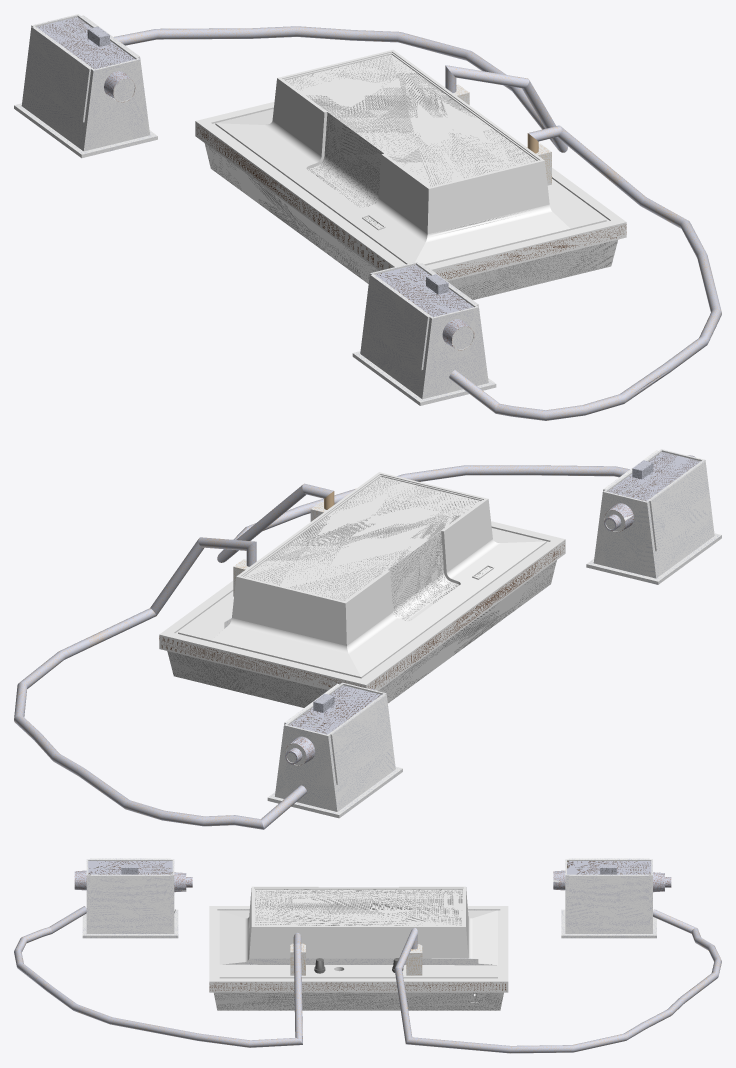
Rendered from Magnavox.fbx.
3 views of the same model, one above another, from view 1: azimuth 30°, elevation 25°; view 2: azimuth 150°, elevation 25°; view 3: azimuth 270°, elevation 25° (orthographic). The views are drawn at different scales.
Parts seen in each view (by area): view 1: SketchUp.003, SketchUp.060, SketchUp.074, SketchUp.096, SketchUp.007, SketchUp.116, SketchUp.072, SketchUp.021, SketchUp.027, SketchUp.012, SketchUp.094, SketchUp.106 (+3 smaller); view 2: SketchUp.003, SketchUp.060, SketchUp.096, SketchUp.074, SketchUp.072, SketchUp.007, SketchUp.021, SketchUp.027, SketchUp.116, SketchUp.012, SketchUp.094, SketchUp.106 (+3 smaller); view 3: SketchUp.003, SketchUp.060, SketchUp.096, SketchUp.074, SketchUp.007, SketchUp.072, SketchUp.116, SketchUp.021, SketchUp.027, SketchUp.040, SketchUp.106, SketchUp.094 (+5 smaller).
Part boxes in pixels (x1,y1,x2,y2): SketchUp.003: (215, 49, 606, 265); SketchUp.060: (285, 54, 536, 186); SketchUp.074: (21, 14, 149, 151); SketchUp.096: (360, 262, 488, 399); SketchUp.007: (204, 143, 617, 299); SketchUp.116: (449, 125, 721, 420); SketchUp.072: (114, 26, 567, 152); SketchUp.021: (195, 101, 626, 270); SketchUp.027: (195, 122, 626, 279); SketchUp.012: (311, 112, 383, 207); SketchUp.094: (37, 17, 135, 69); SketchUp.106: (375, 265, 473, 317); SketchUp.003: (178, 472, 546, 678); SketchUp.060: (244, 476, 480, 601); SketchUp.096: (593, 449, 714, 578); SketchUp.074: (275, 682, 395, 811); SketchUp.072: (14, 537, 306, 829); SketchUp.007: (167, 560, 556, 707); SketchUp.021: (159, 521, 565, 686); SketchUp.027: (159, 541, 565, 690); SketchUp.116: (217, 465, 629, 562); SketchUp.012: (388, 531, 456, 620); SketchUp.094: (289, 685, 381, 734); SketchUp.106: (607, 452, 700, 501); SketchUp.003: (219, 886, 497, 978); SketchUp.060: (255, 889, 462, 925); SketchUp.096: (86, 858, 174, 933); SketchUp.074: (565, 858, 652, 933); SketchUp.007: (214, 992, 503, 1010); SketchUp.072: (394, 909, 721, 1053); SketchUp.116: (14, 906, 302, 1047); SketchUp.021: (209, 906, 508, 982); SketchUp.027: (209, 982, 508, 991); SketchUp.040: (223, 958, 496, 965); SketchUp.106: (88, 861, 172, 874); SketchUp.094: (567, 861, 651, 874).
Bounding box in the file's own units: 41.28 × 10.77 × 88.78.
